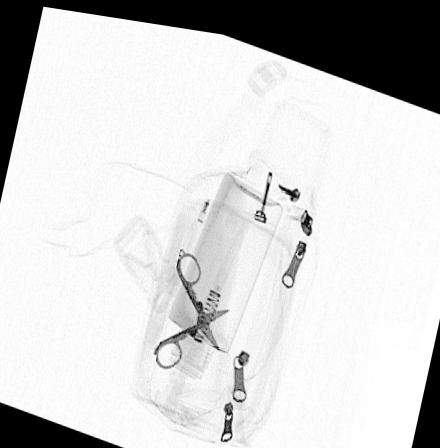Scissors: (153, 240, 230, 364)
